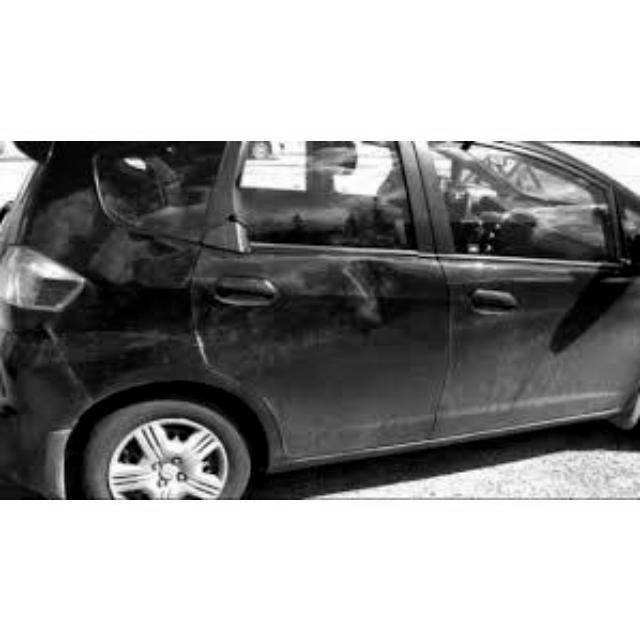doorouter-dent: (217, 245, 448, 459), (450, 258, 606, 422)
quaterpanel-dent: (42, 199, 191, 374)
